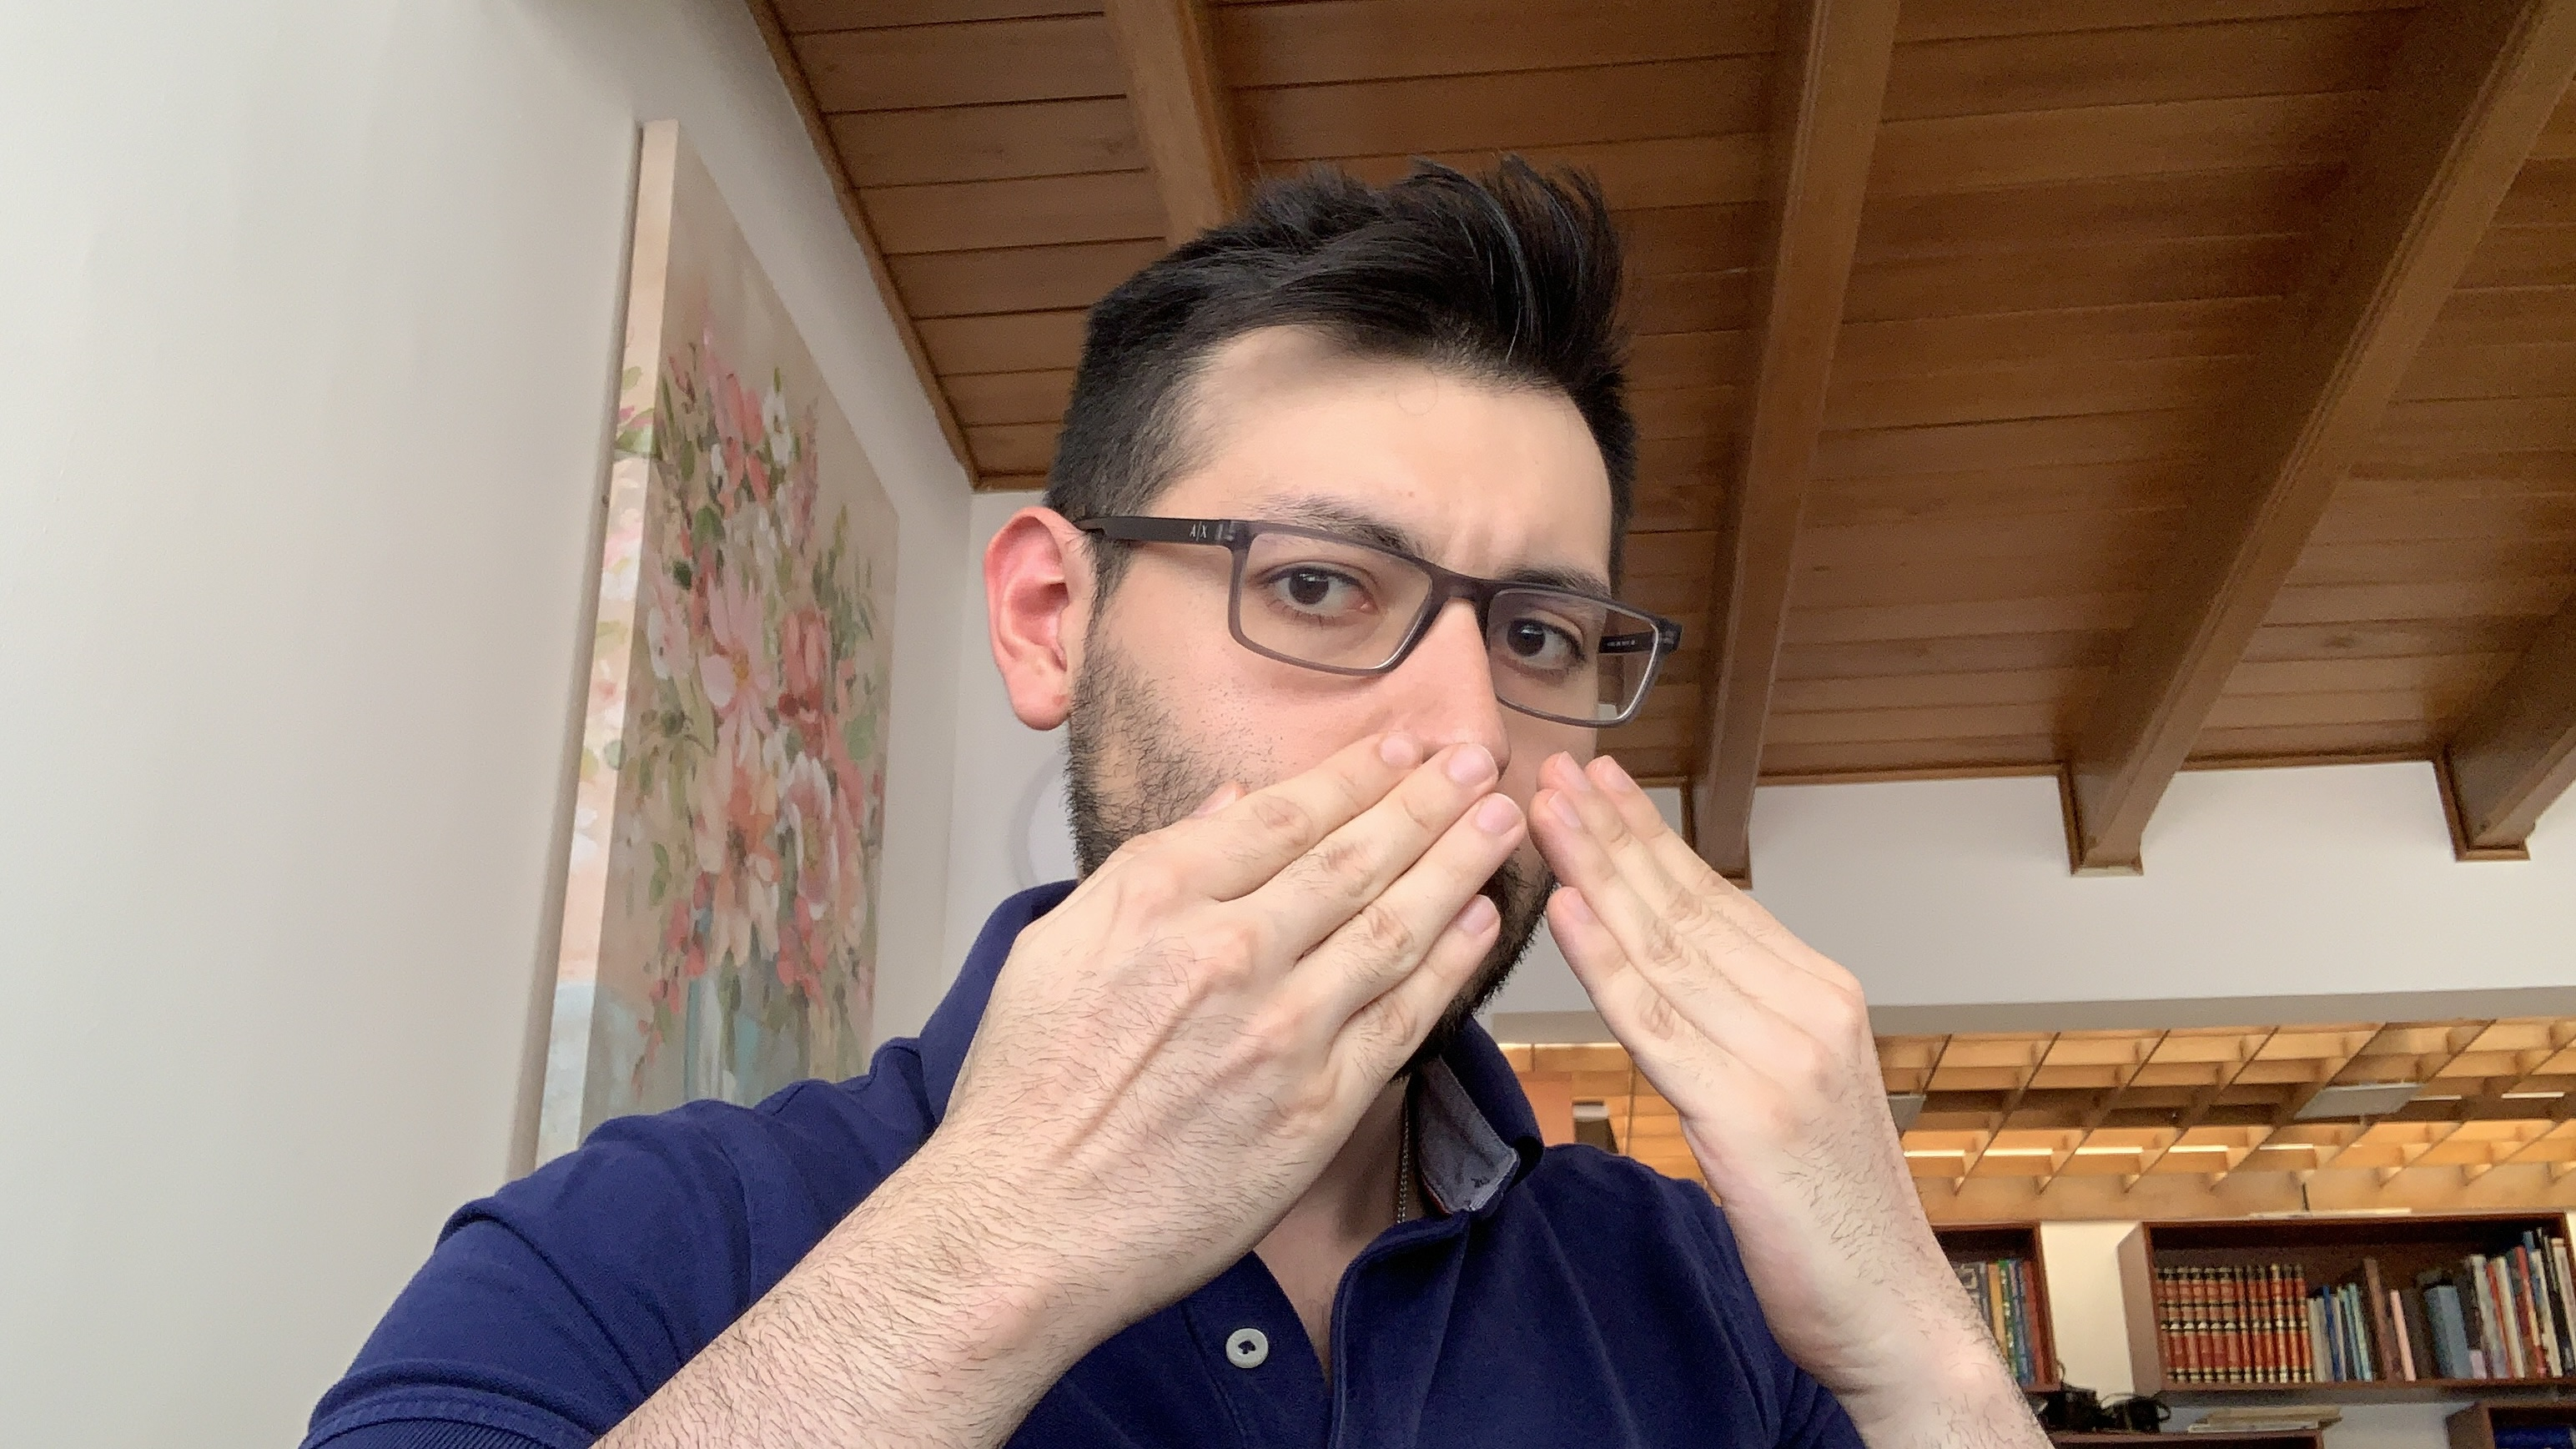Thank You: (924, 717, 1996, 1309)
